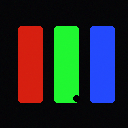0 point: (73, 95, 79, 101)
